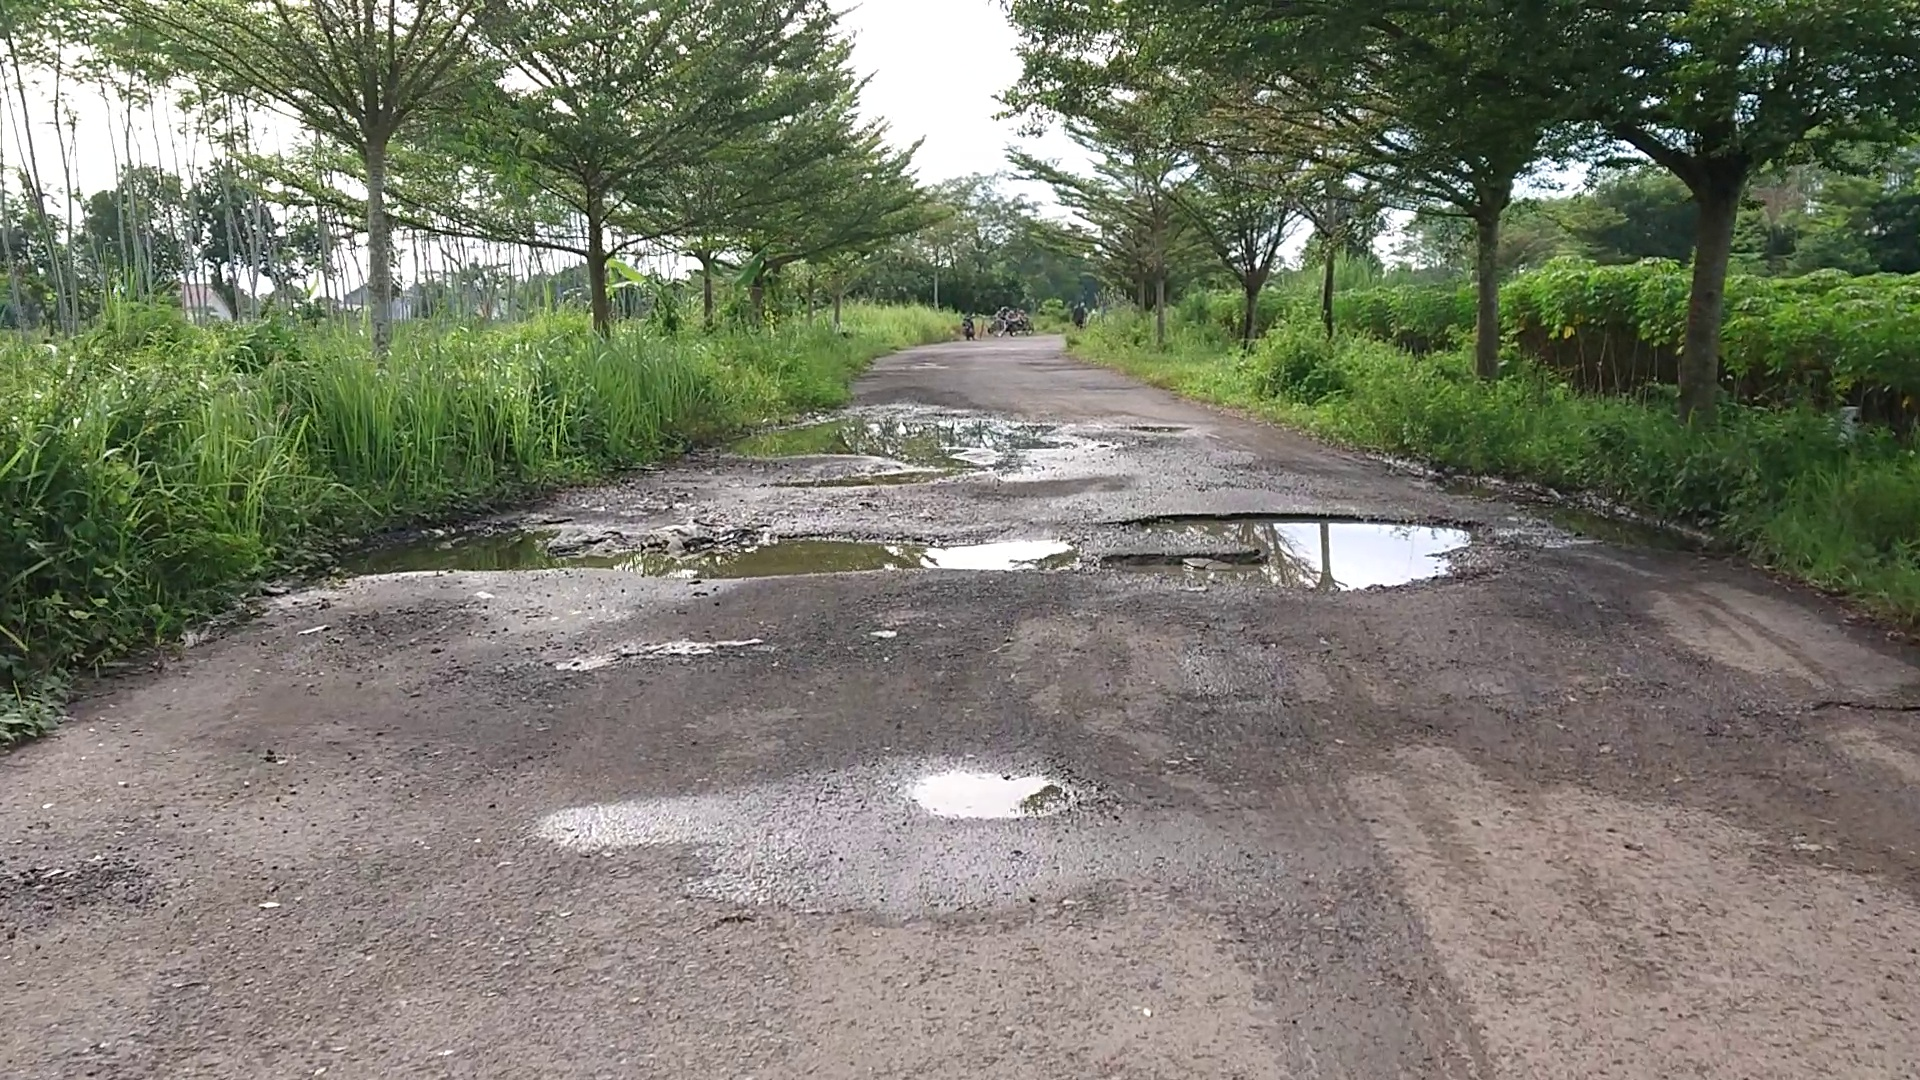Berlubang: (1098, 516, 1495, 589), (386, 534, 1069, 570), (720, 414, 1091, 475)
